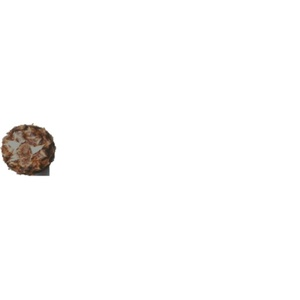abacaxi: (1, 118, 58, 178)
